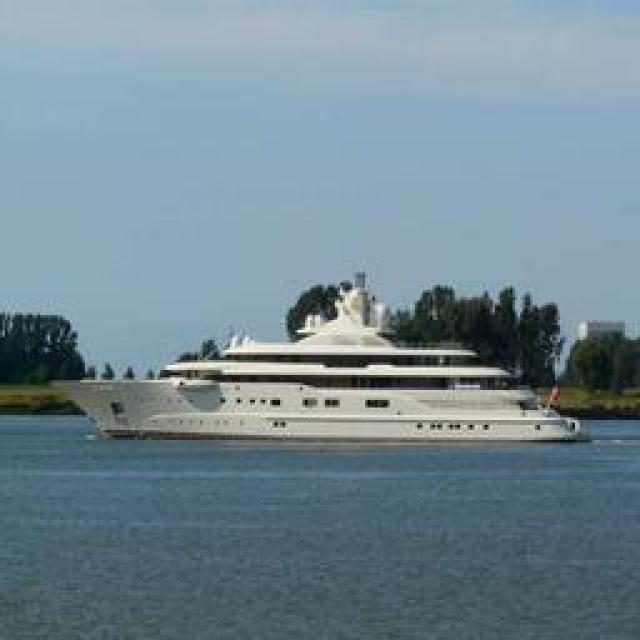Ship: (75, 380, 585, 445)
